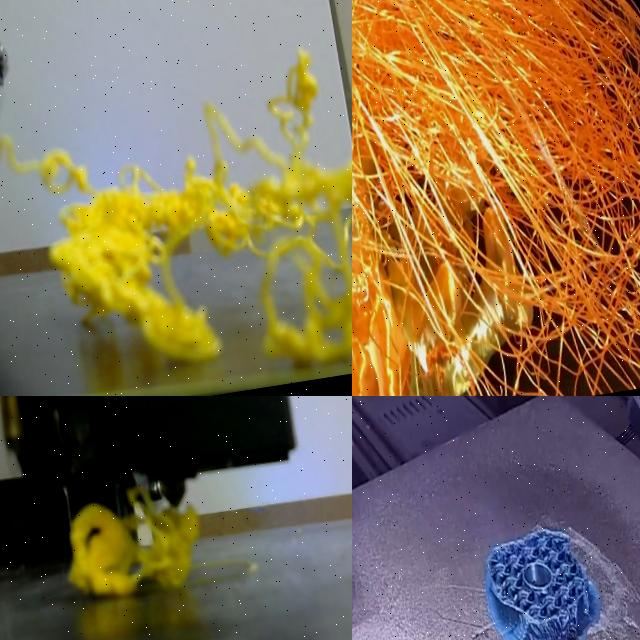spaghetti: (352, 0, 640, 396), (69, 487, 199, 596)
